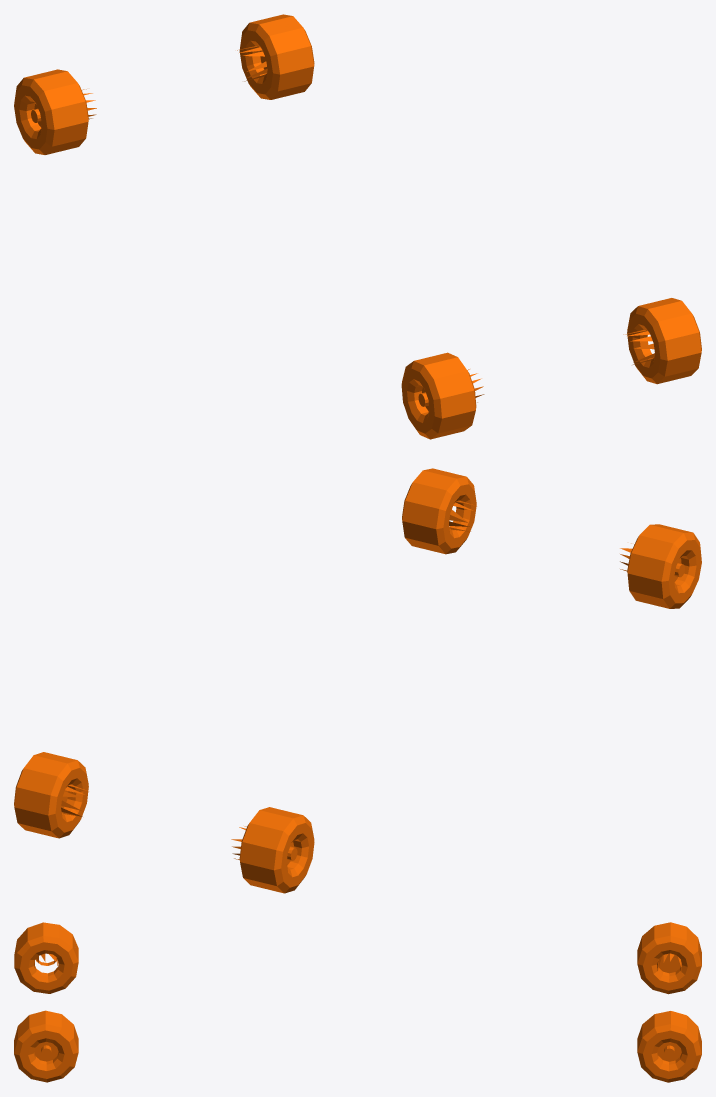
Rendered from orange.glb.
3 renders of one model, top to bottom at view 1: azimuth 30°, elevation 25°; view 2: azimuth 150°, elevation 25°; view 3: azimuth 270°, elevation 25°, orthographic. The views are drawn at different scales.
Parts seen in each view (by area): view 1: WheelFR, WheelRR, WheelFL, WheelRL; view 2: WheelFR, WheelRR, WheelFL, WheelRL; view 3: WheelRL, WheelFL, WheelFR, WheelRR.
Part boxes in pixels (box(x1,y1,x2,y2)): WheelFR: box(14, 69, 96, 154); WheelRR: box(401, 352, 484, 439); WheelFL: box(237, 14, 314, 99); WheelRL: box(623, 298, 701, 384); WheelFR: box(231, 807, 314, 893); WheelRR: box(620, 524, 701, 608); WheelFL: box(14, 752, 88, 838); WheelRL: box(402, 468, 476, 554); WheelRL: box(14, 1010, 78, 1082); WheelFL: box(637, 1011, 701, 1082); WheelFR: box(637, 922, 701, 994); WheelRR: box(14, 922, 78, 993).
Bounding box in the file's own units: 3.29 × 0.8599 × 9.13.
Materials: 1 (1 with a texture image).
